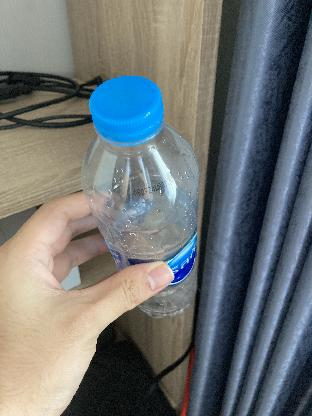Plastic Bottle: (82, 72, 204, 322)
